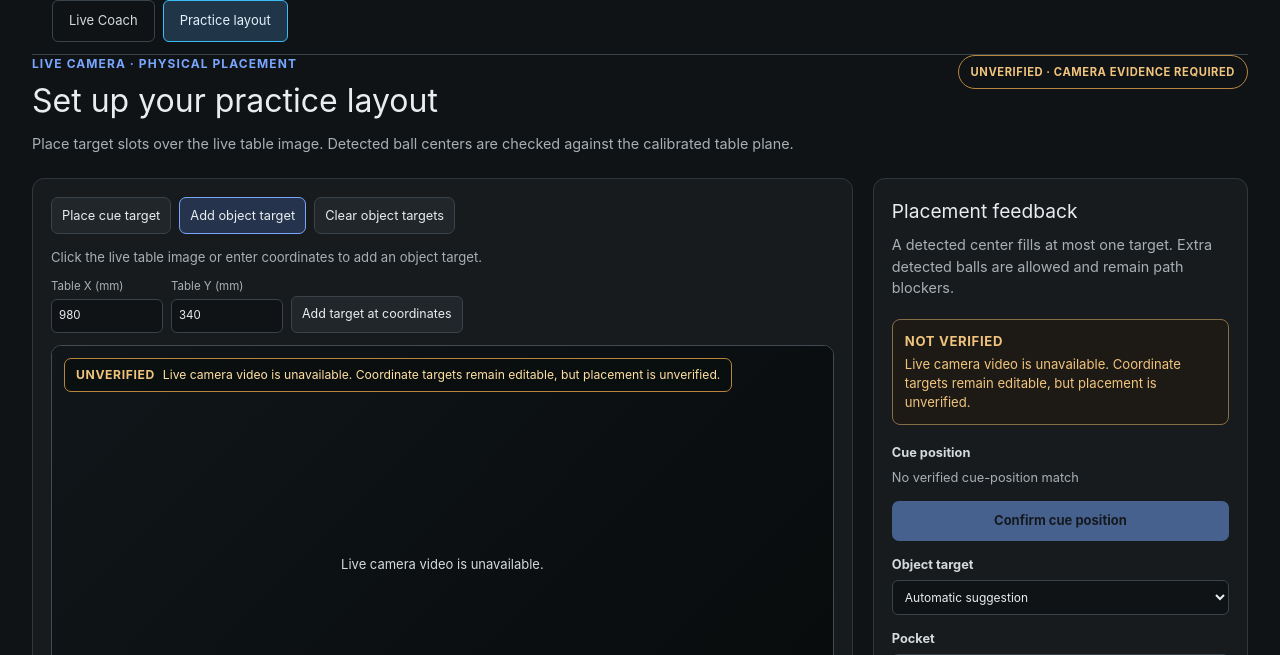
PracticePage › keeps coordinate editing, target selection, removal, and physical dimension controls
Earlier steps of the test are not shown.
Later steps or results of the test are not shown.
Click the button "Add target at coordinates" at (377,314), box [291,296,462,332]
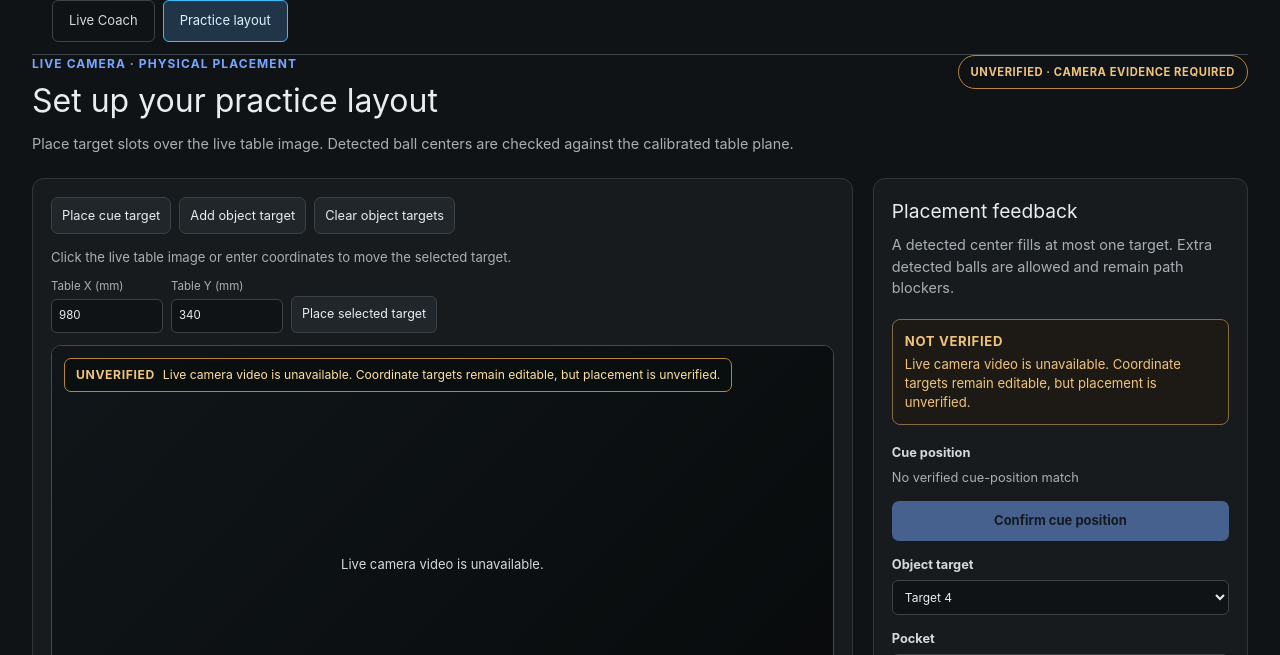
Select "Target 4" in the dropdown labelled "Object target" at (1060,597), box [892,580,1229,615]
(page scrolled)
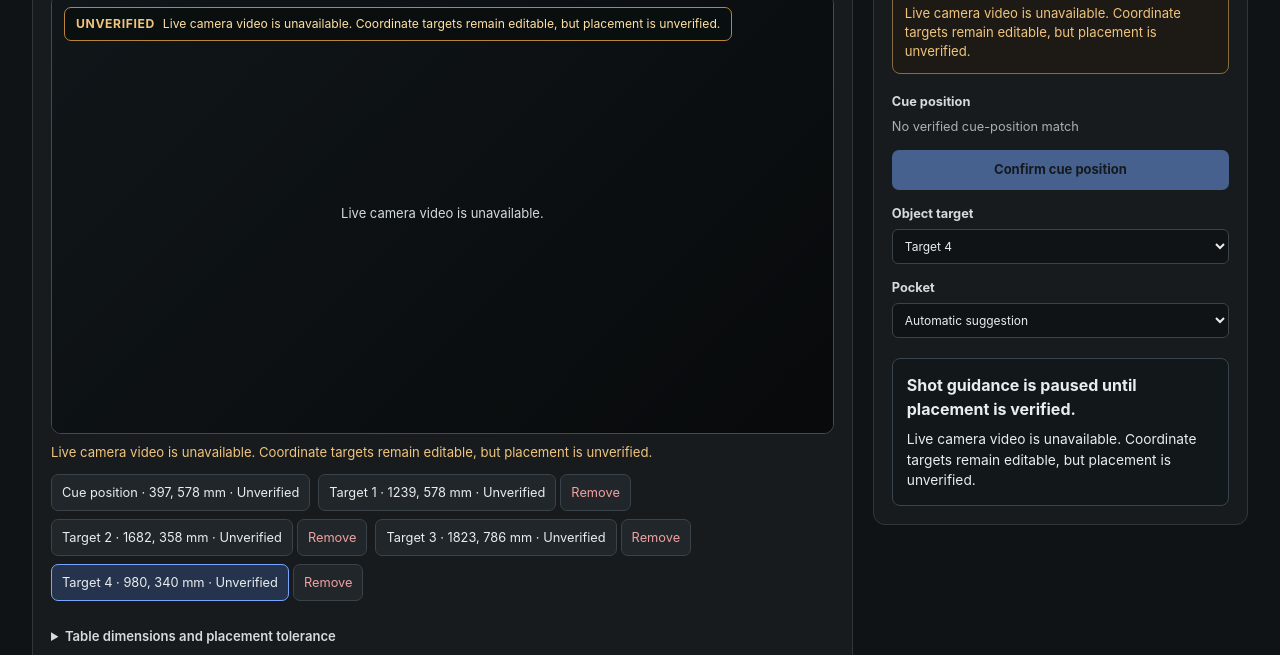
Select "Top middle" in the dropdown labelled "Pocket" at (1060,321), box [892,303,1229,338]
Click the button with aria-label "Remove Target 4" at (328,583), box [293,564,363,601]
(page scrolled)
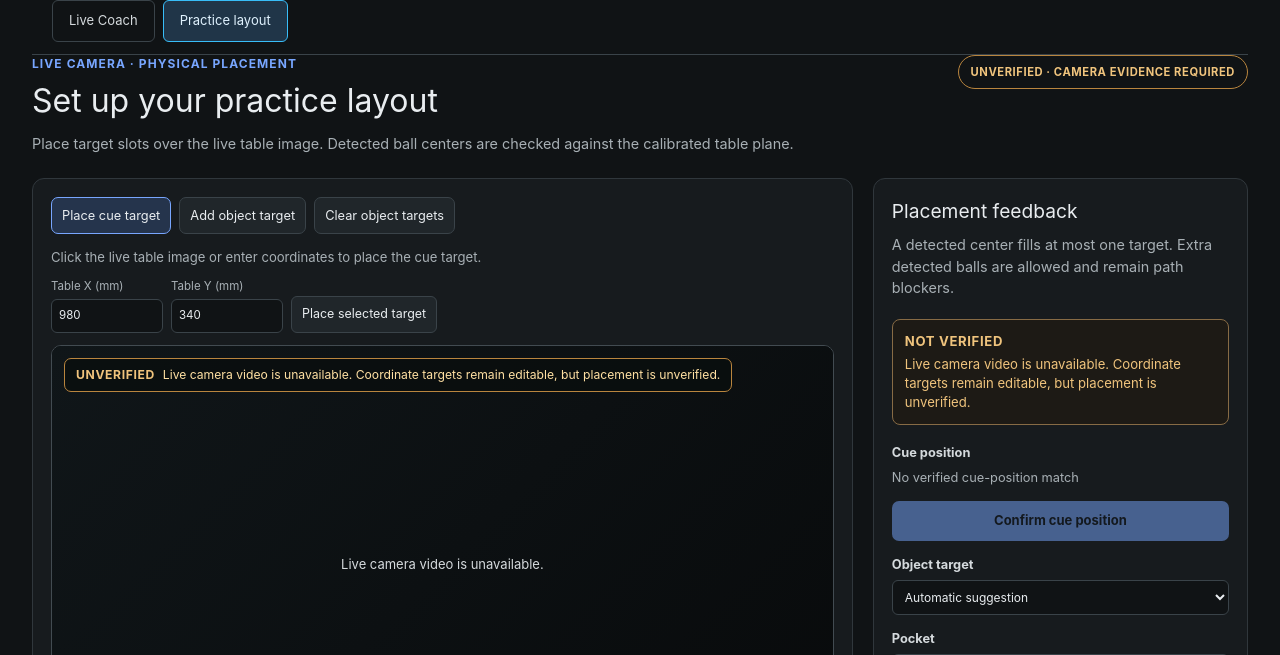
Expected: the button "Target 4" is gone
Click the button "Place cue target" at (111,216), box [51,197,171,234]
Replace the text in the number field labelled "Table X (mm)" with "900" at (107,316), box [51,299,163,333]
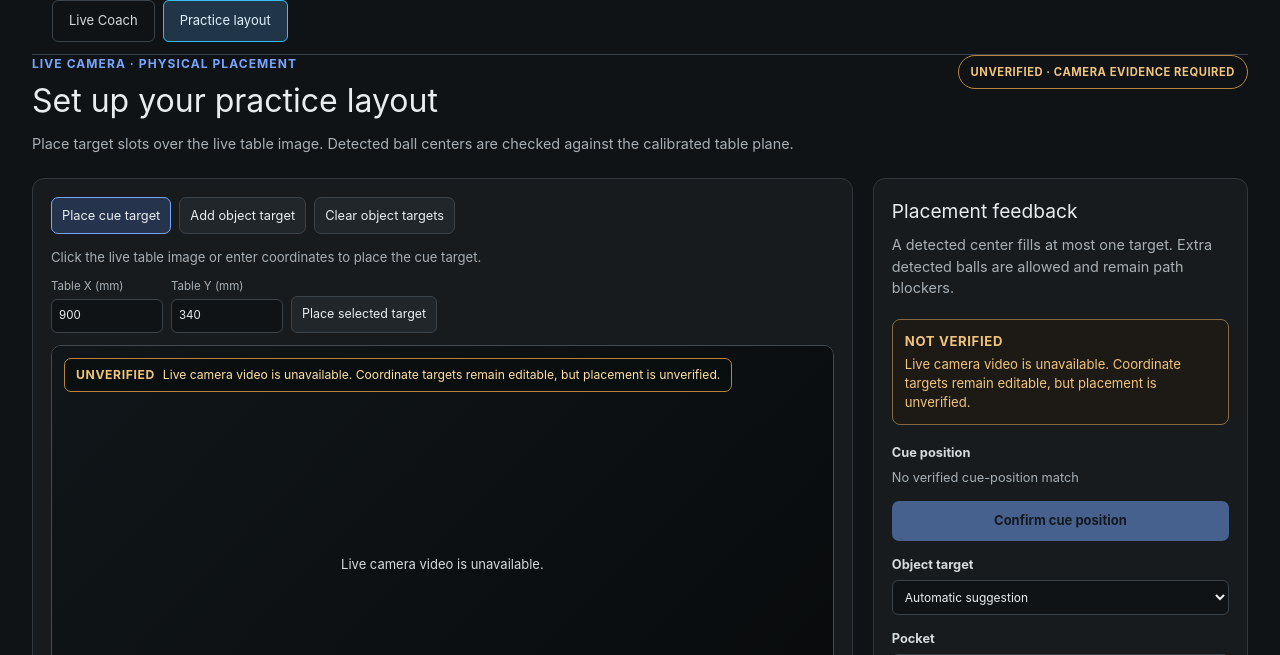
Replace the text in the number field labelled "Table Y (mm)" with "200" at (227,316), box [171,299,283,333]
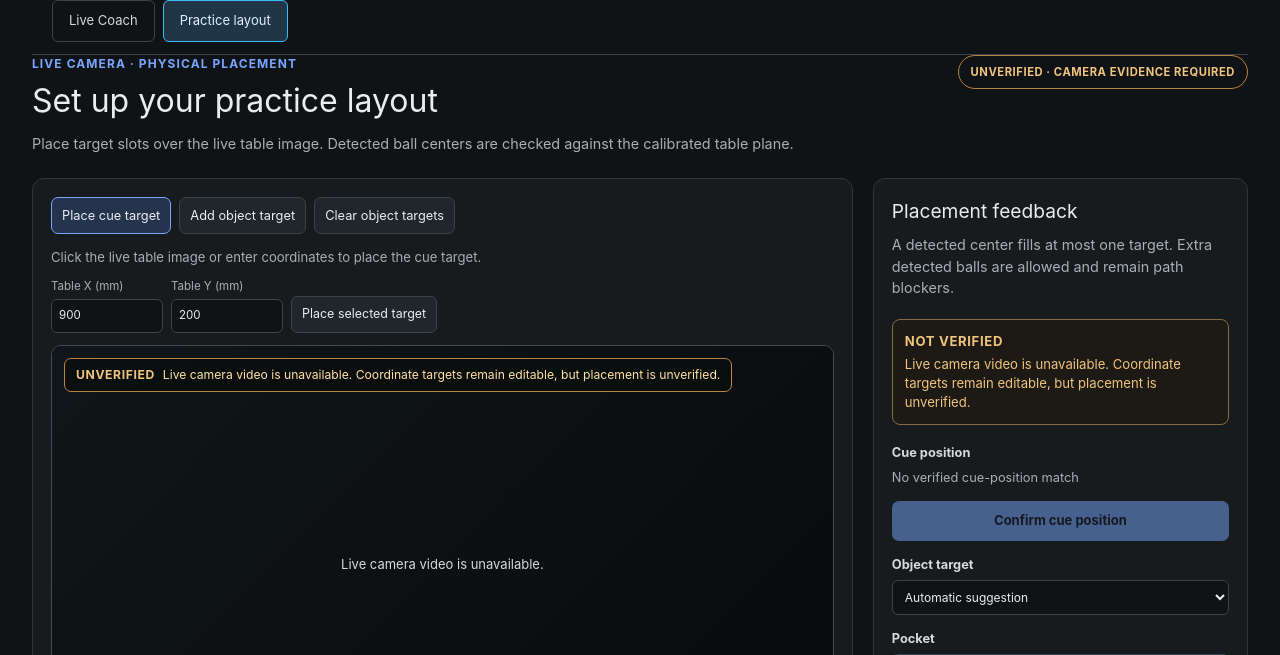
Click the button "Place selected target" at (364,314), box [291,296,437,332]
(page scrolled)
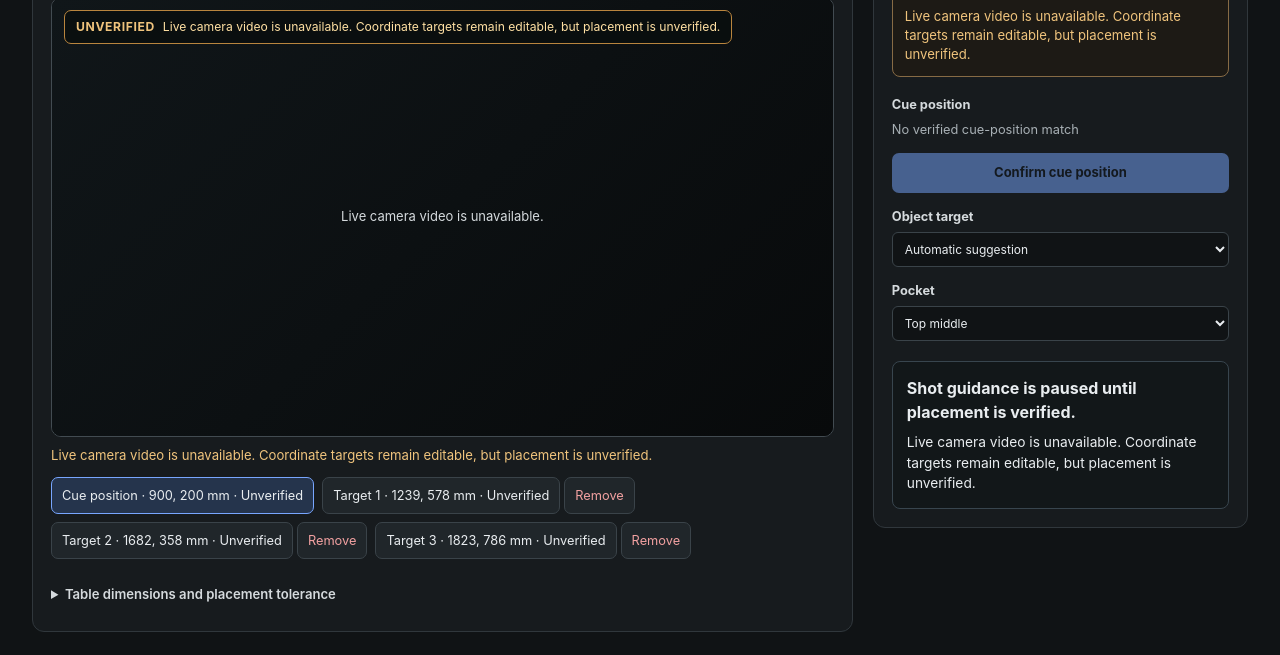
Expected: the button "Cue position · 900, 200 mm · Unverified" is shown, [51,477,314,514]
